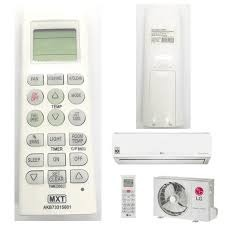remote control: (16, 11, 97, 216)
